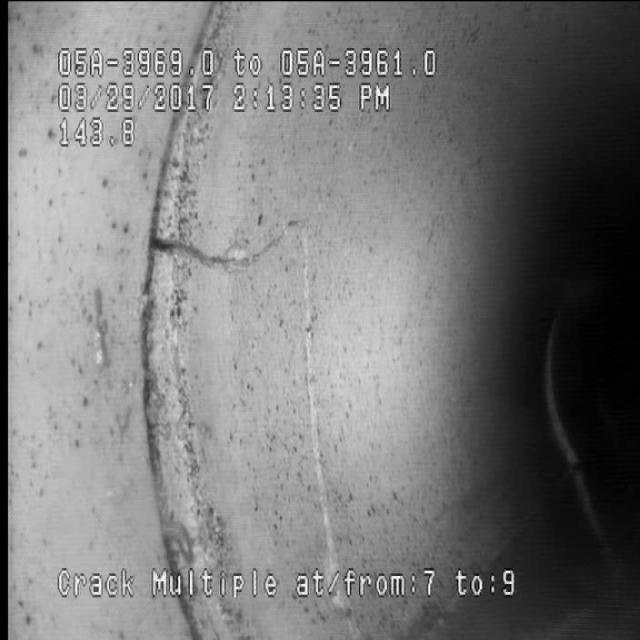Crack: (158, 170, 366, 502)
